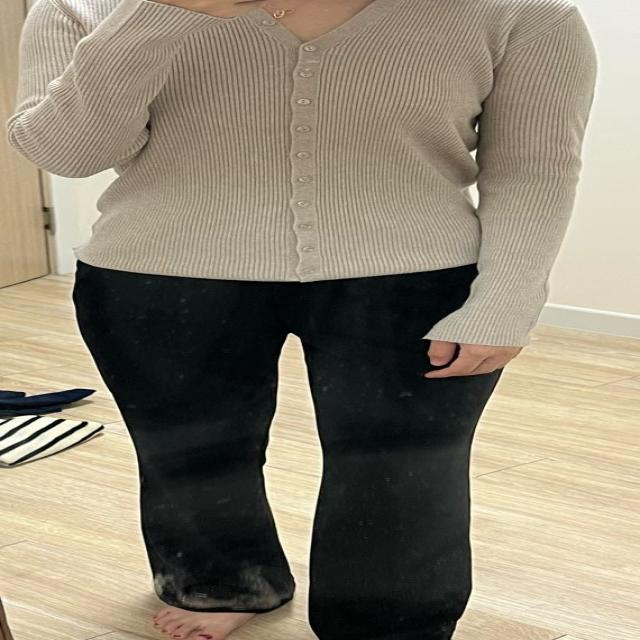cardigan: (18, 0, 595, 347)
slacks: (67, 255, 512, 640)
